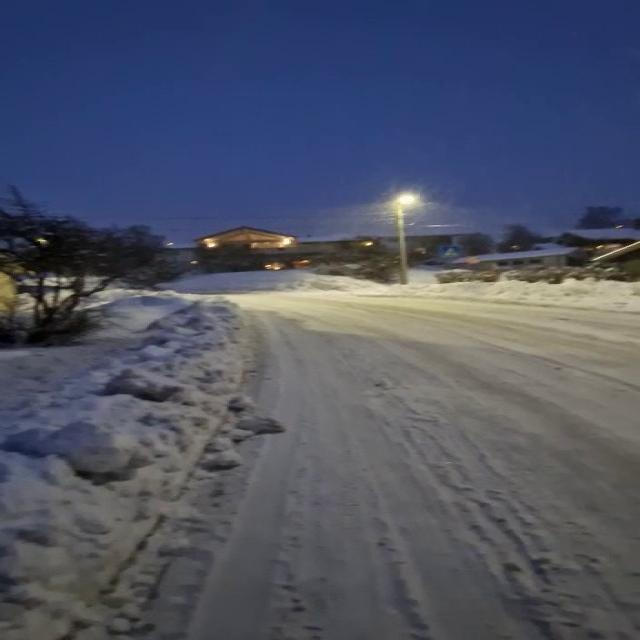path: (189, 296, 640, 640)
